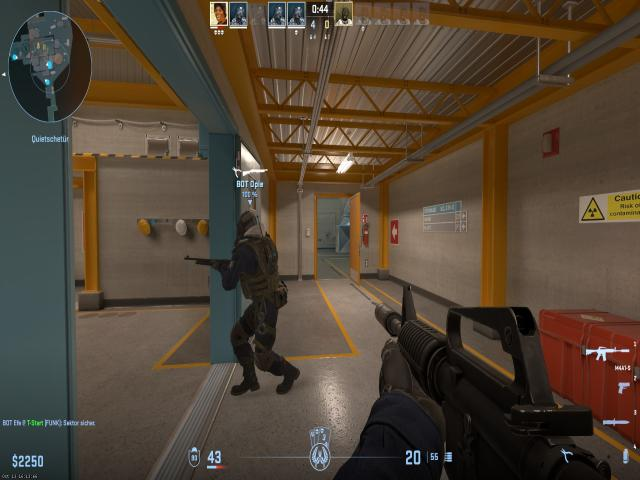CT: (230, 211, 279, 382)
CT-Head: (237, 211, 256, 241)
